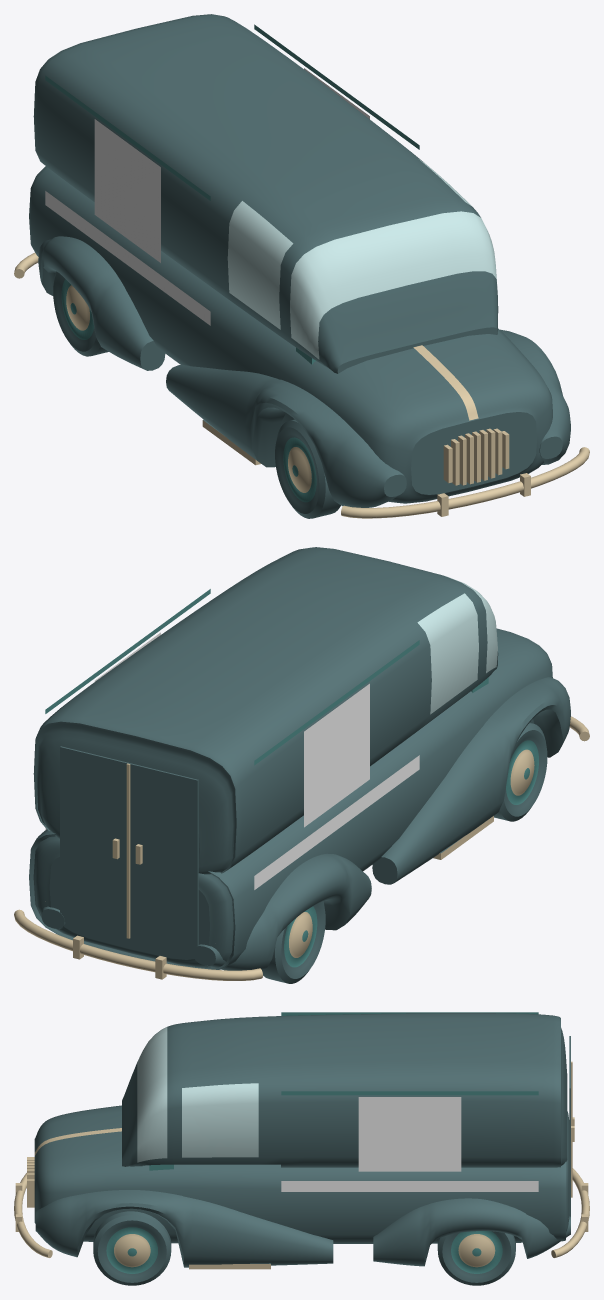
Rendered from KC32__AD_Ext_Car_Van.glb.
3 renders of one model, top to bottom at view 1: azimuth 30°, elevation 25°; view 2: azimuth 150°, elevation 25°; view 3: azimuth 270°, elevation 25°, orthographic. The views are drawn at different scales.
Parts seen in each view (by area): view 1: KC32_CORPS__AD_Ext_Car_Van, KC32_VITRAGE__AD_Ext_Car_Van, KC32_BRONZE__AD_Ext_Car_Van, KC32_ACCENT__AD_Ext_Car_Van; view 2: KC32_CORPS__AD_Ext_Car_Van, KC32_ACCENT__AD_Ext_Car_Van, KC32_BRONZE__AD_Ext_Car_Van, KC32_VITRAGE__AD_Ext_Car_Van; view 3: KC32_CORPS__AD_Ext_Car_Van, KC32_ACCENT__AD_Ext_Car_Van, KC32_VITRAGE__AD_Ext_Car_Van, KC32_BRONZE__AD_Ext_Car_Van.
Part boxes in pixels (x1,y1,x2,y2): KC32_CORPS__AD_Ext_Car_Van: (29,14,570,518); KC32_VITRAGE__AD_Ext_Car_Van: (227,159,497,359); KC32_BRONZE__AD_Ext_Car_Van: (14,252,589,518); KC32_ACCENT__AD_Ext_Car_Van: (45,68,369,325); KC32_CORPS__AD_Ext_Car_Van: (29,547,570,983); KC32_ACCENT__AD_Ext_Car_Van: (45,632,419,889); KC32_BRONZE__AD_Ext_Car_Van: (14,716,589,980); KC32_VITRAGE__AD_Ext_Car_Van: (417,575,497,714); KC32_CORPS__AD_Ext_Car_Van: (34,1012,570,1285); KC32_ACCENT__AD_Ext_Car_Van: (281,1097,538,1191); KC32_VITRAGE__AD_Ext_Car_Van: (137,1027,258,1162); KC32_BRONZE__AD_Ext_Car_Van: (14,1061,589,1269).
Size of the model in its own units: 2.28 by 2.19 by 5.6.
